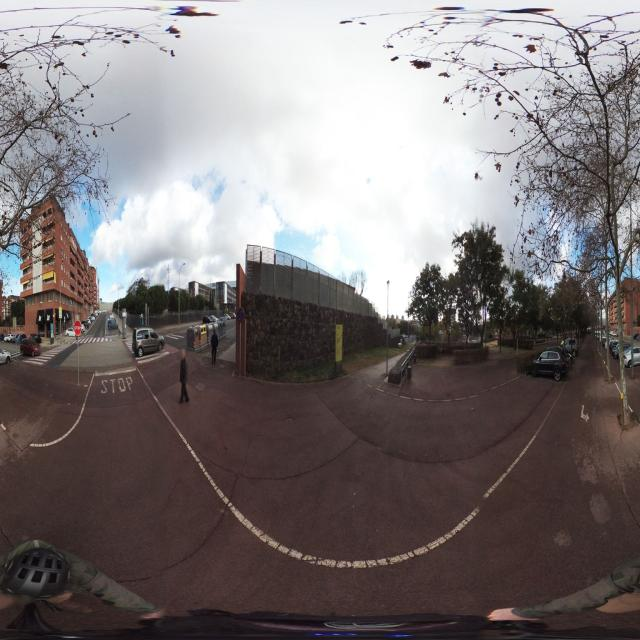forb_stopping: (236, 307, 244, 322)
